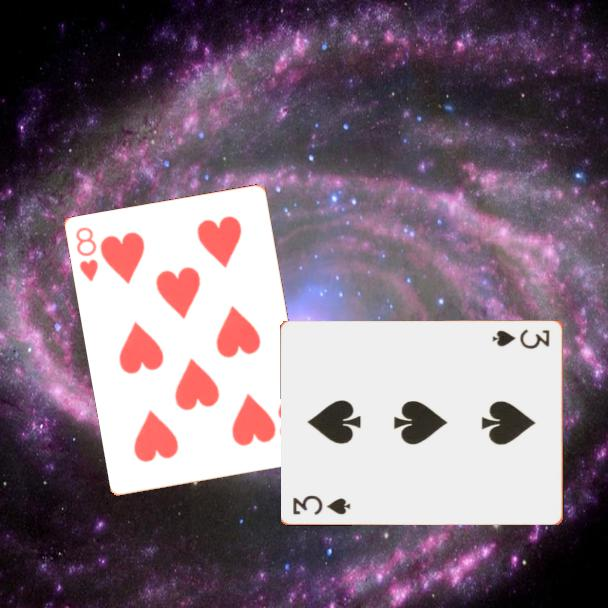h08: (73, 224, 101, 285)
s03: (489, 325, 552, 351), (290, 492, 354, 517)
